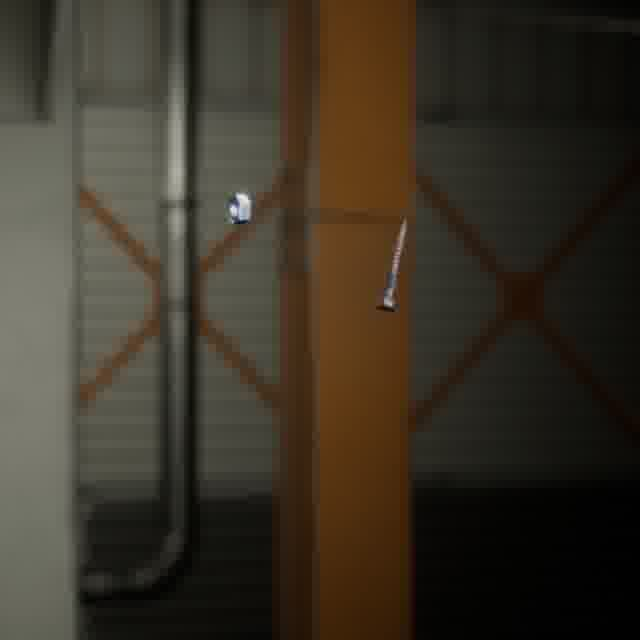bolt: (371, 215, 412, 316)
nut: (223, 189, 255, 229)
